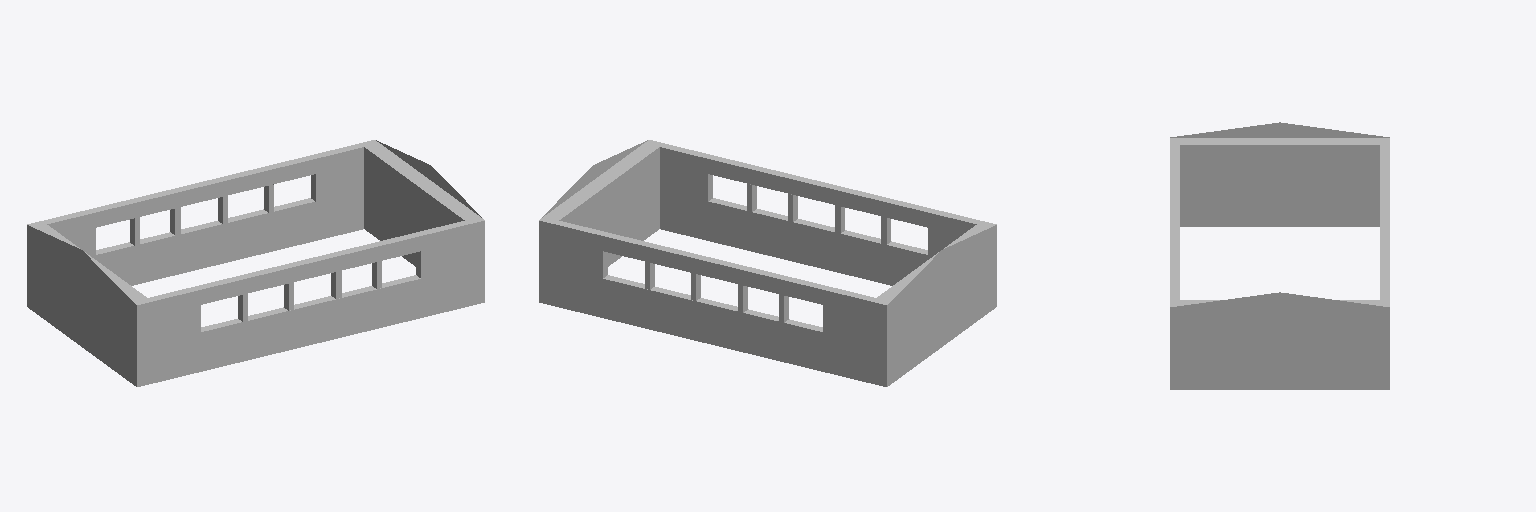
File: hall_walls.obj
3 renders of one model, left to right at view 1: azimuth 30°, elevation 25°; view 2: azimuth 150°, elevation 25°; view 3: azimuth 270°, elevation 25°, orthographic.
Visible parts, largest first — view 1: Halle_Cube.010; view 2: Halle_Cube.010; view 3: Halle_Cube.010.
Part boxes in pixels (left/top/right/bottom): Halle_Cube.010: left=27, top=140, right=484, bottom=386; Halle_Cube.010: left=539, top=140, right=996, bottom=386; Halle_Cube.010: left=1170, top=122, right=1389, bottom=389.
Bounding box in the file's own units: 243 × 64.83 × 133.